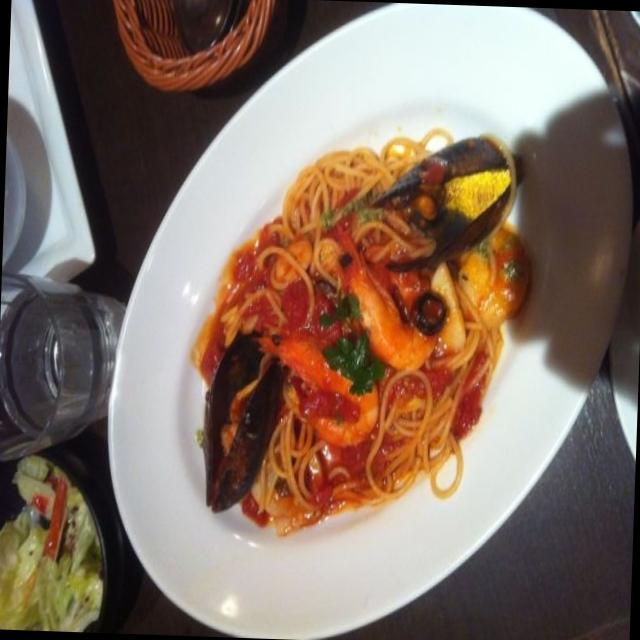Pasta: (204, 119, 511, 524)
